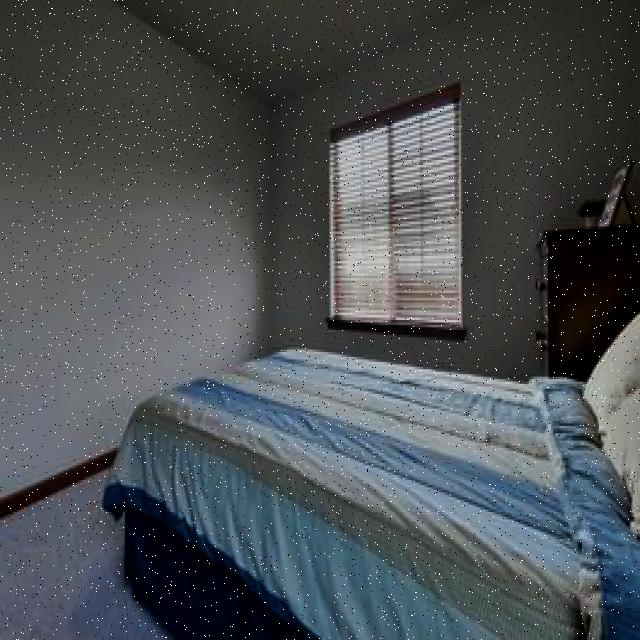bed: (107, 332, 638, 640)
